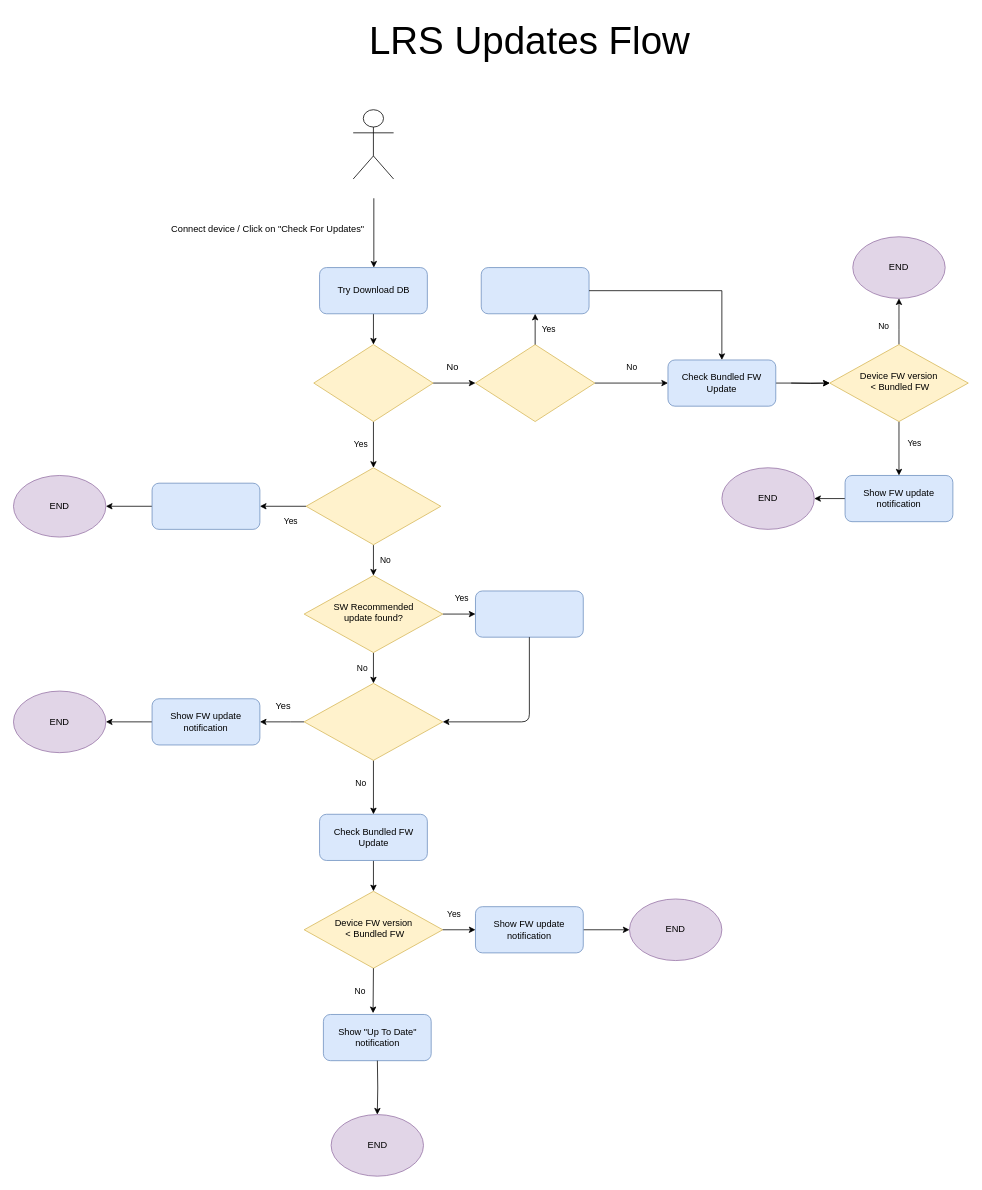
Some shapes in this 982 by 1190 pixel diagram are drawn without their labels. Each missing label, with the box of its shape:
Download DB OK?: (313, 344, 433, 422)
FW Recommended update found?: (303, 683, 443, 760)
Show Error accessing DB notification: (480, 267, 589, 314)
Show essential updates window: (151, 482, 260, 529)
Show SW update notification: (475, 590, 583, 637)
SW/FW essential update found?: (305, 467, 441, 545)
Triggered by user?: (475, 344, 595, 422)
User: (352, 109, 394, 179)
